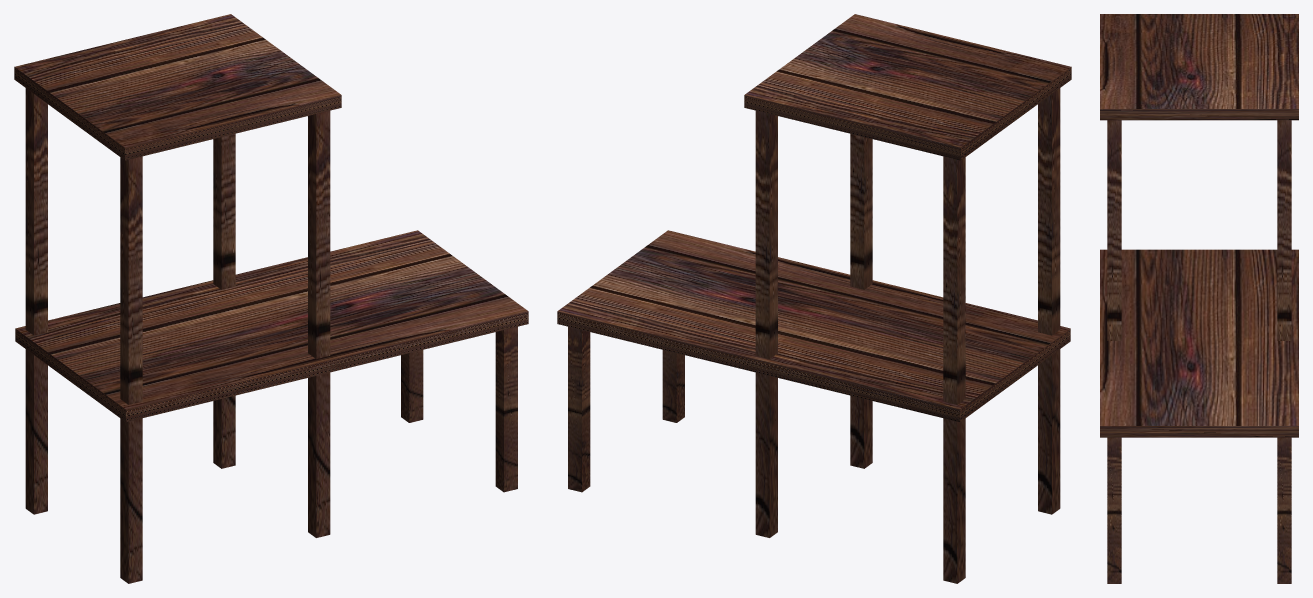
The model's file is mesa3.obj.
3 renders of one model, left to right at view 1: azimuth 30°, elevation 25°; view 2: azimuth 150°, elevation 25°; view 3: azimuth 270°, elevation 25°, orthographic. The views are drawn at different scales.
Visible parts, largest first — view 1: Cube, Cube.007, Cube.005, Cube.004, Cube.002, Cube.001, Cube.003, Cube.006; view 2: Cube, Cube.007, Cube.002, Cube.001, Cube.005, Cube.004, Cube.006, Cube.003; view 3: Cube, Cube.007, Cube.001, Cube.004, Cube.003, Cube.006.
Part boxes in pixels (left/top/right/bottom): Cube: left=15, top=230, right=528, bottom=422; Cube.007: left=14, top=14, right=341, bottom=160; Cube.005: left=120, top=156, right=142, bottom=583; Cube.004: left=308, top=110, right=330, bottom=537; Cube.002: left=25, top=88, right=47, bottom=514; Cube.001: left=213, top=133, right=235, bottom=468; Cube.003: left=495, top=326, right=517, bottom=492; Cube.006: left=401, top=350, right=423, bottom=422; Cube: left=557, top=230, right=1070, bottom=422; Cube.007: left=744, top=14, right=1071, bottom=160; Cube.002: left=943, top=156, right=965, bottom=583; Cube.001: left=755, top=110, right=777, bottom=537; Cube.005: left=1038, top=88, right=1060, bottom=514; Cube.004: left=850, top=133, right=872, bottom=468; Cube.006: left=568, top=326, right=590, bottom=492; Cube.003: left=662, top=350, right=684, bottom=422; Cube: left=1100, top=249, right=1298, bottom=437; Cube.007: left=1100, top=14, right=1298, bottom=120; Cube.001: left=1277, top=120, right=1291, bottom=340; Cube.004: left=1107, top=120, right=1121, bottom=340; Cube.003: left=1107, top=437, right=1121, bottom=583; Cube.006: left=1277, top=437, right=1291, bottom=583.
Size of the model in its own units: 18.71 by 19.53 by 8.89.
8 materials, 8 textured.
